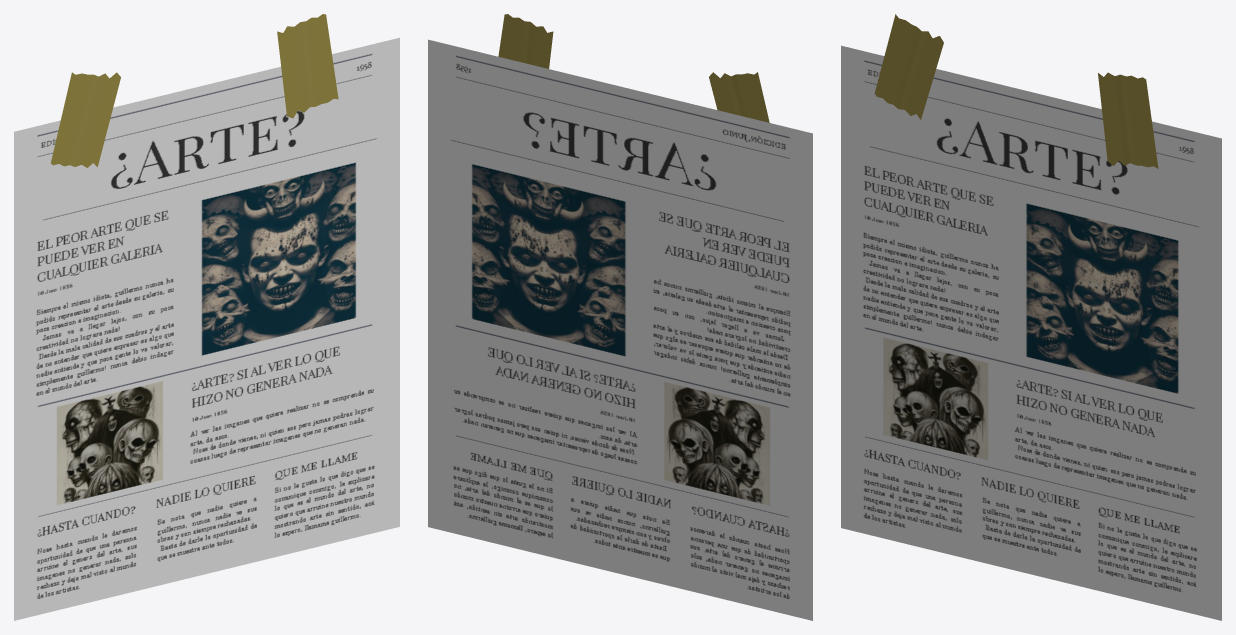
Rendered from Diario6.fbx.
The picture shows the model from 3 angles, left to right: view 1: azimuth 30°, elevation 25°; view 2: azimuth 150°, elevation 25°; view 3: azimuth 330°, elevation 25°; orthographic projection.
Parts seen in each view (by area): view 1: Plane.005, Plane.002, Plane.001; view 2: Plane.005, Plane.002, Plane.001; view 3: Plane.005, Plane.001, Plane.002.
Part boxes in pixels (x1,y1,x2,y2): Plane.005: (14,37,399,620); Plane.002: (50,72,120,167); Plane.001: (277,14,338,118); Plane.005: (428,39,812,620); Plane.002: (709,72,769,122); Plane.001: (498,14,553,68); Plane.005: (841,45,1221,620); Plane.001: (1098,72,1158,168); Plane.002: (874,14,943,119).
Bounding box in the file's own units: 219 × 290 × 1.55.
